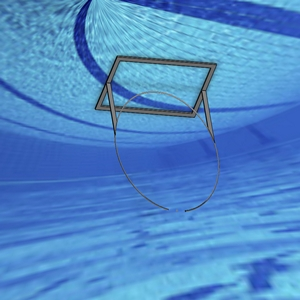circle: (92, 53, 222, 215)
